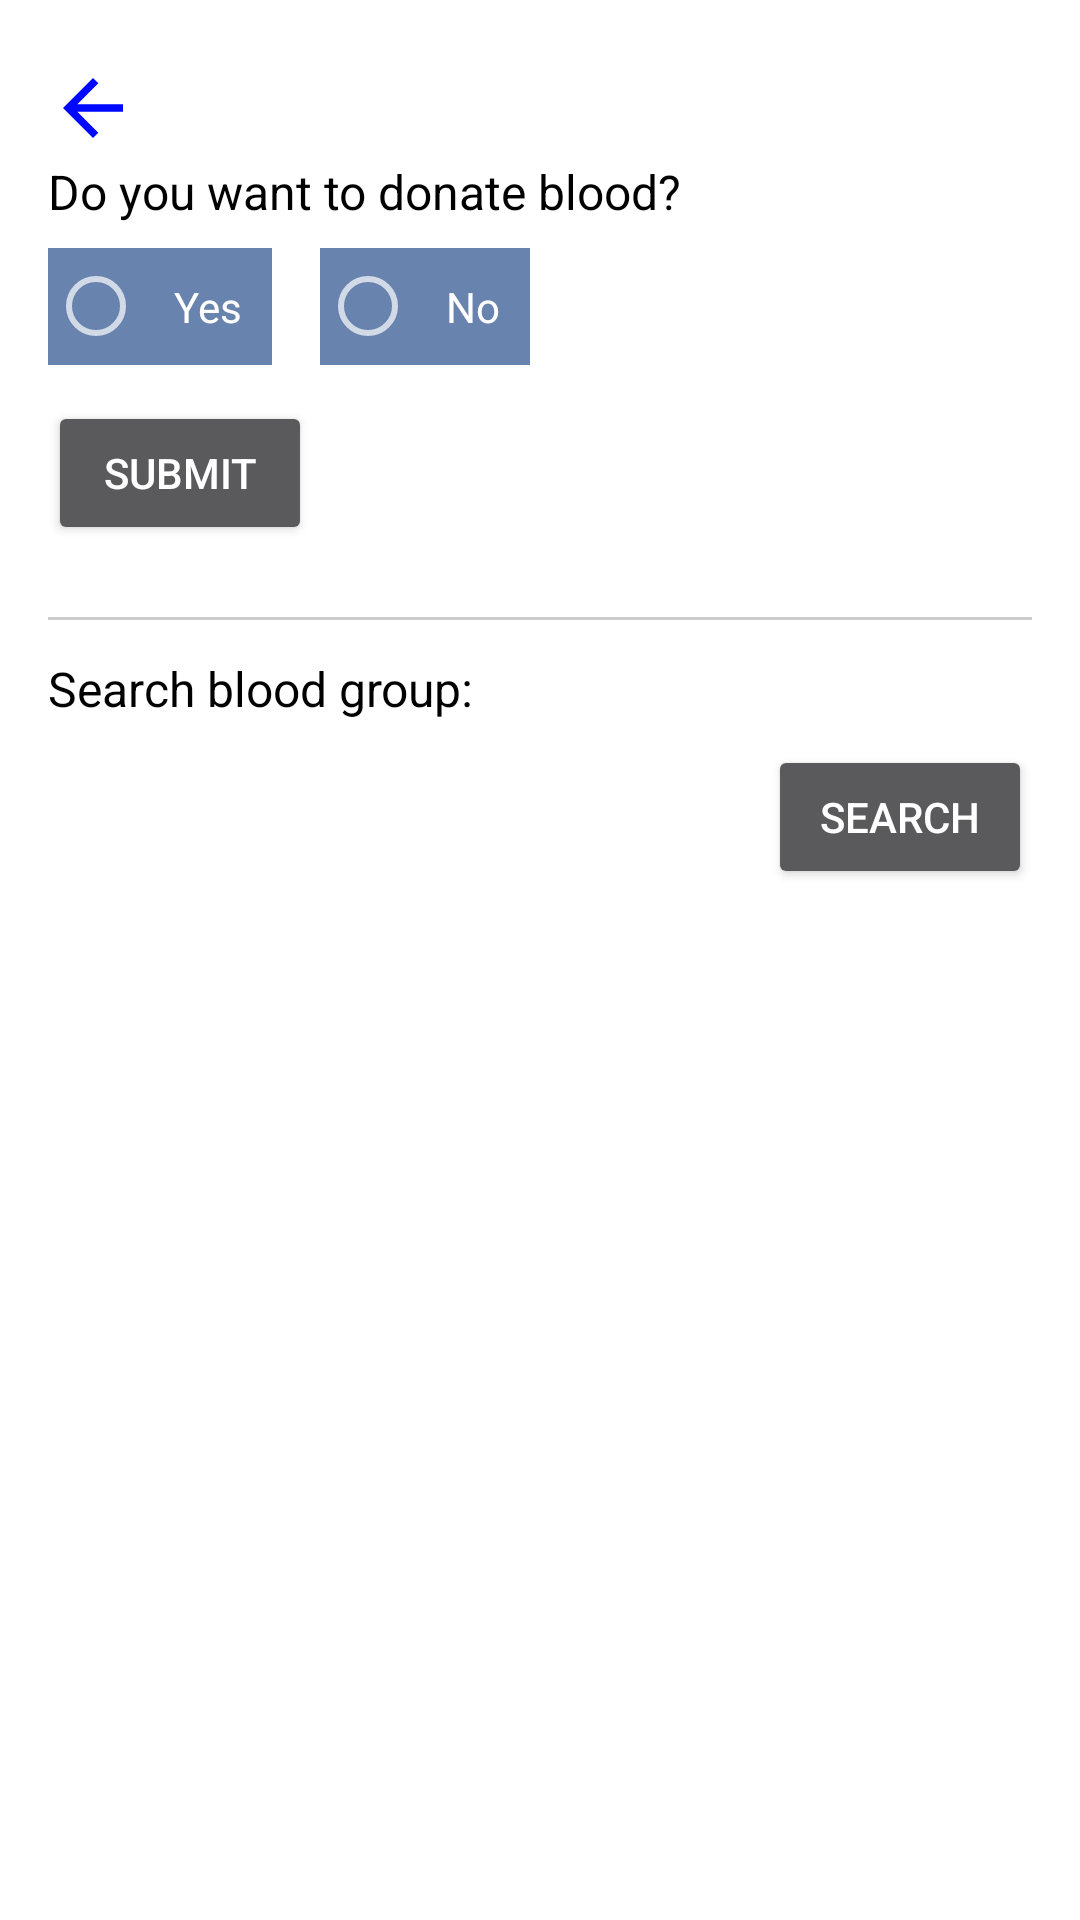

Icon bounding boxes for this 1080 × 1920 phone screenshot, format (x1, y1, x2, y2):
back: (63, 78, 123, 138)
